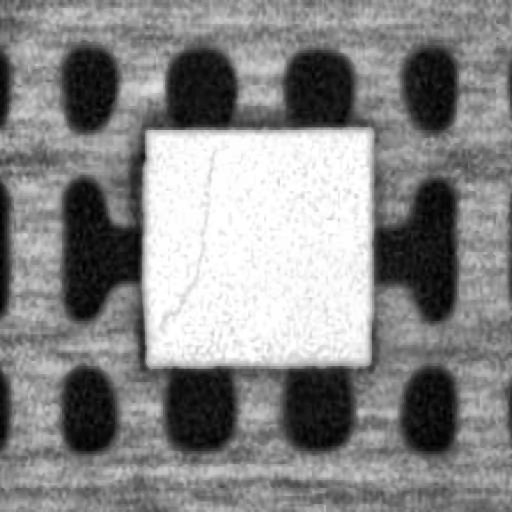DIE_CRACK: (159, 152, 211, 326)
